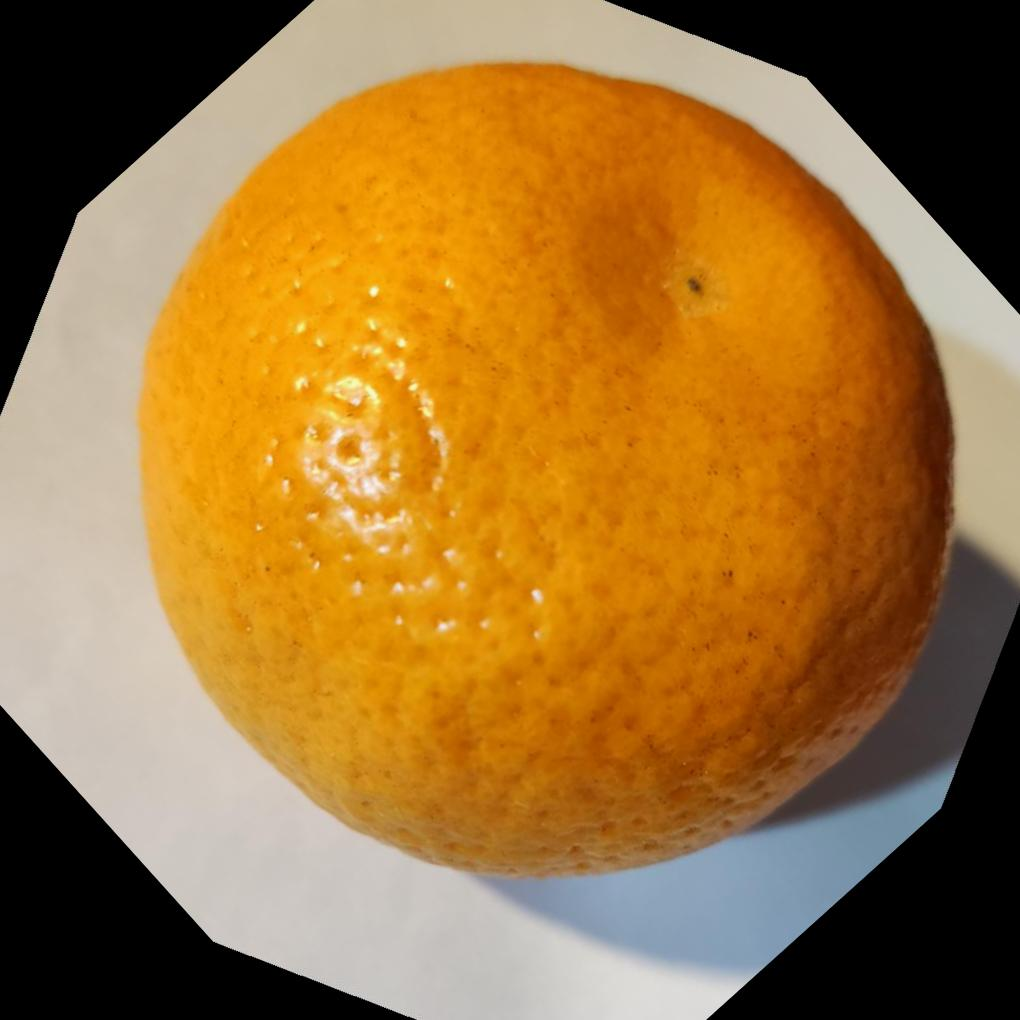FreshGuava: (129, 59, 956, 884)
